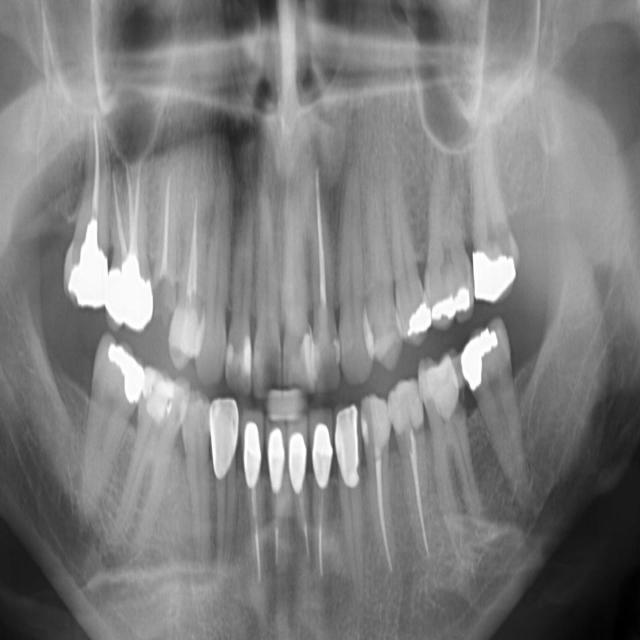dentin-curugu: (257, 356, 282, 391)
dolgu: (90, 333, 148, 412), (466, 237, 525, 306), (458, 323, 508, 394), (392, 290, 437, 345), (421, 287, 478, 322), (230, 326, 257, 386), (299, 336, 325, 391)
kanal-tedavisi: (308, 160, 342, 328), (403, 431, 441, 566), (113, 153, 155, 270), (83, 118, 115, 252), (288, 490, 334, 577), (174, 200, 207, 302), (373, 450, 397, 582), (239, 480, 267, 582), (159, 180, 178, 295)
kaplama: (100, 253, 156, 335), (61, 240, 110, 319), (208, 393, 244, 479), (306, 410, 340, 494), (277, 420, 313, 496), (332, 403, 362, 490), (264, 418, 290, 492), (242, 414, 264, 486)
